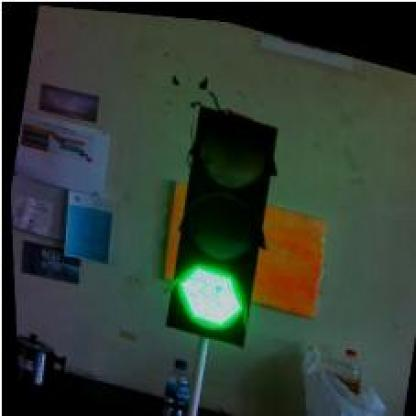green: (153, 95, 283, 348)
